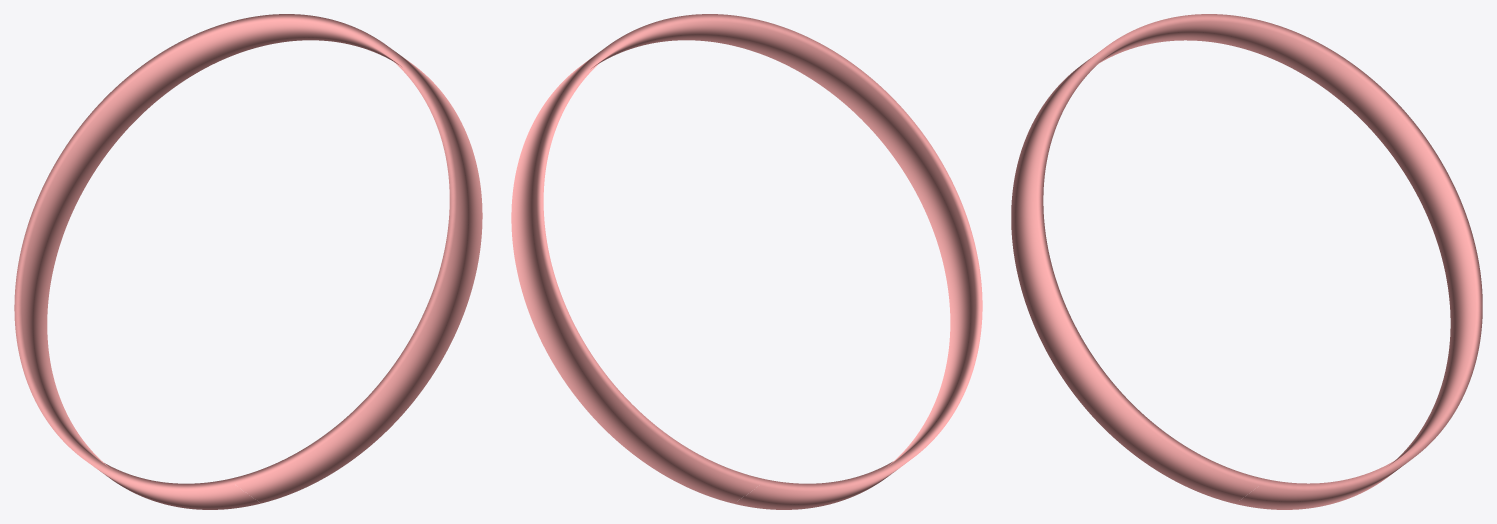
File: coil_coil_8_tube.gltf
3 views of the same model, side by side, from view 1: azimuth 30°, elevation 25°; view 2: azimuth 150°, elevation 25°; view 3: azimuth 330°, elevation 25° (orthographic).
Parts seen in each view (by area): view 1: Renderer Node; view 2: Renderer Node; view 3: Renderer Node.
Boxes of the visible parts, <box> form: Renderer Node: <box>14,14,482,509</box>; Renderer Node: <box>511,14,982,509</box>; Renderer Node: <box>1011,14,1482,509</box>.
Bounding box in the file's own units: 0.6104 × 0.6101 × 0.0647.
